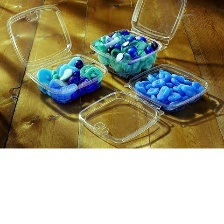plastic_box: (73, 58, 212, 147), (2, 0, 112, 108), (85, 0, 190, 82)
